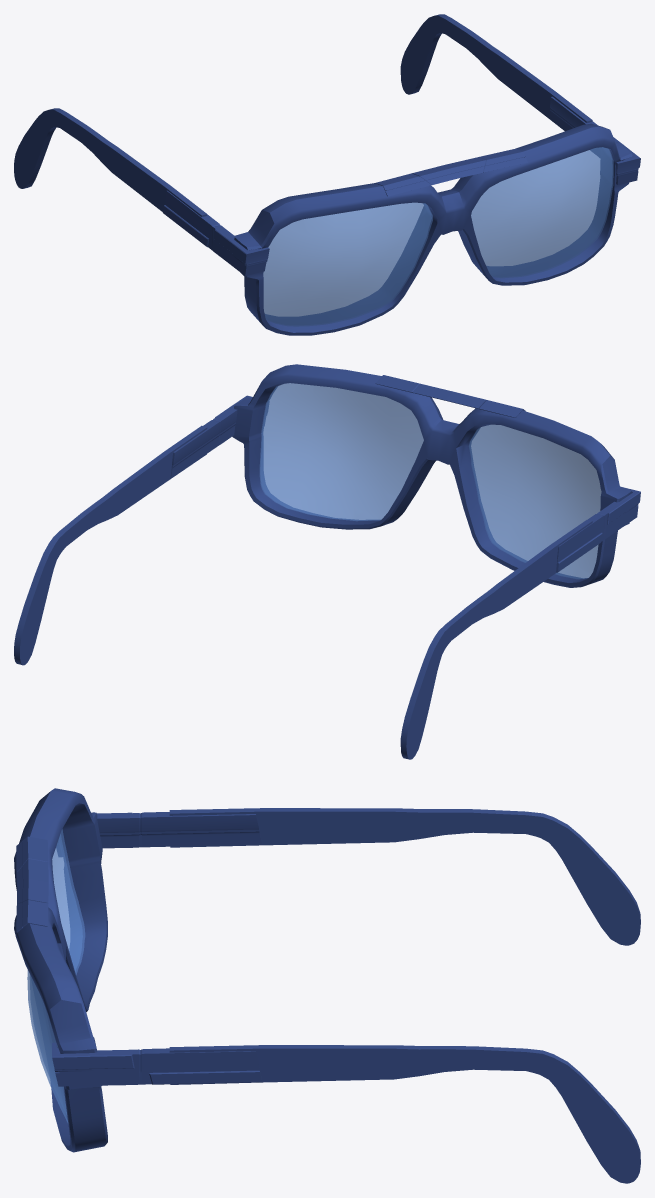
File: model_16_navy_blue.glb
3 views of the same model, one above another, from view 1: azimuth 30°, elevation 25°; view 2: azimuth 150°, elevation 25°; view 3: azimuth 270°, elevation 25° (orthographic). The views are drawn at different scales.
Parts seen in each view (by area): view 1: model_16_navy_biru; view 2: model_16_navy_biru; view 3: model_16_navy_biru.
Part boxes in pixels (left/top/right/bottom): model_16_navy_biru: left=14, top=14, right=640, bottom=335; model_16_navy_biru: left=14, top=364, right=640, bottom=759; model_16_navy_biru: left=14, top=788, right=640, bottom=1183.
Bounding box in the file's own units: 0.6398 × 0.2292 × 0.6973.
